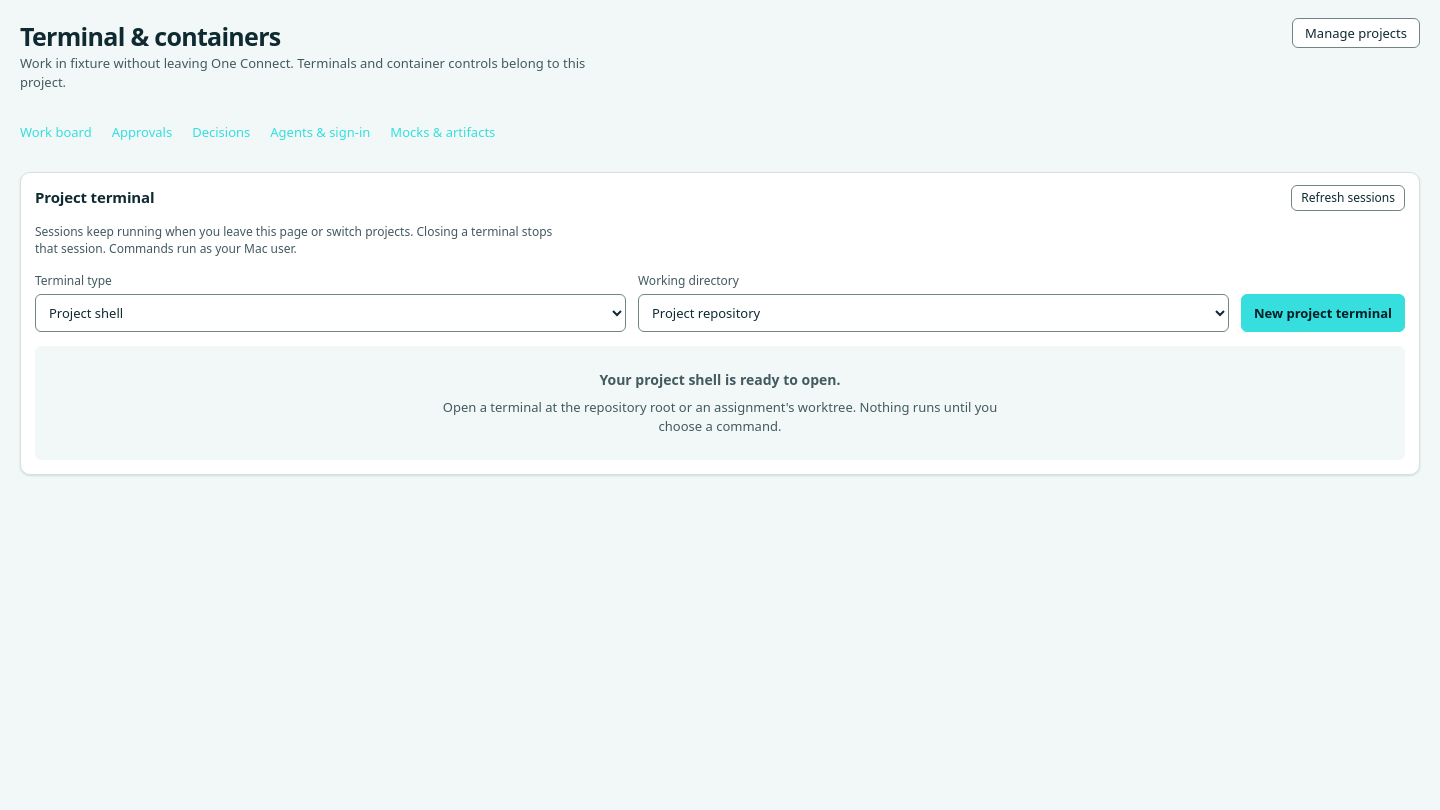
NativeTerminal transport › Workspace keeps the terminal mounted and retries a failed open
What coordinates should you click on to do the following:
click the button "New project terminal"
I would click on:
 (1323, 313)
Its box is [1241,294,1405,332].
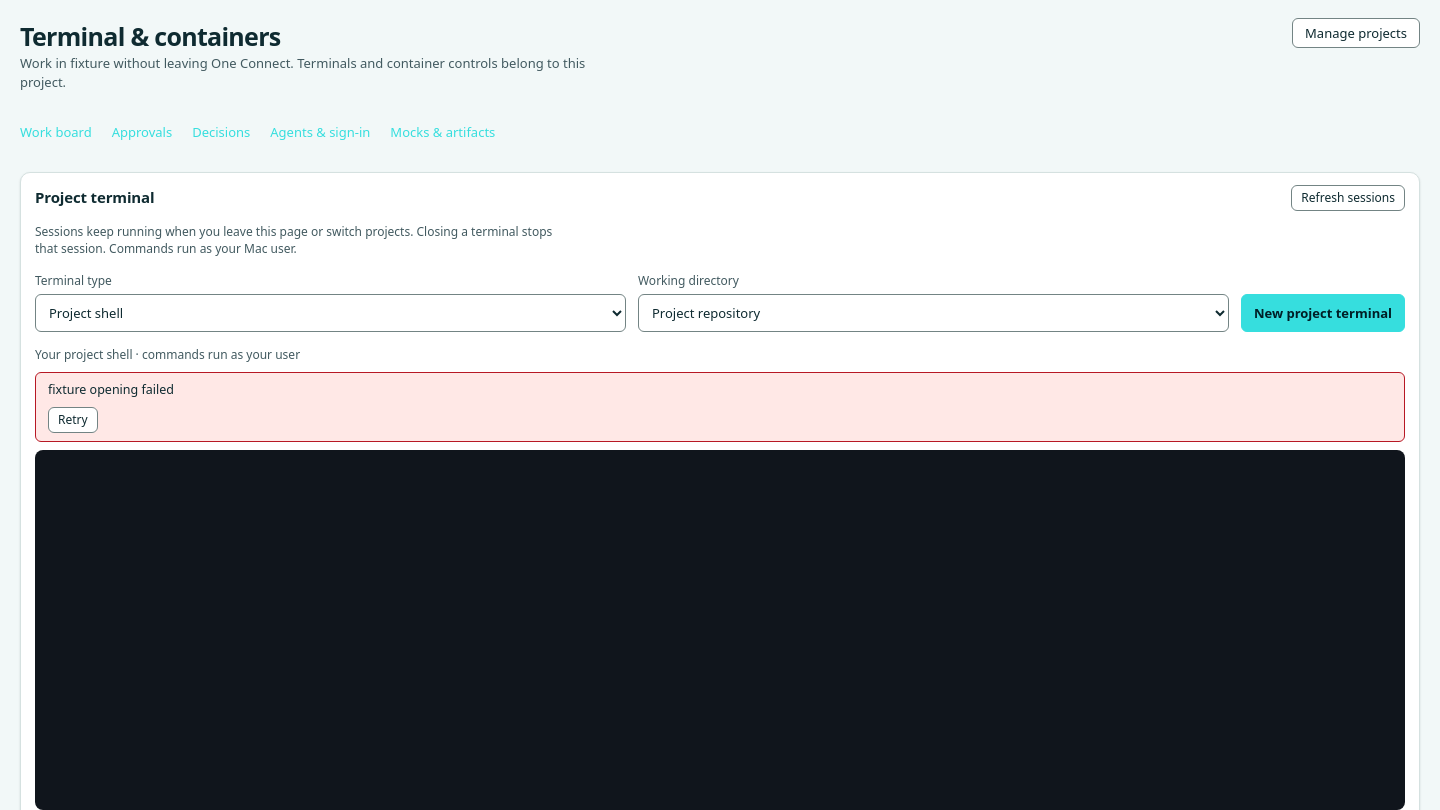
Now the text "fixture opening failed" is shown, box [48,380,174,398]
What coordinates should you click on to do the following:
click the button "Retry"
I would click on:
 (73, 420)
Its box is [48,407,98,433].
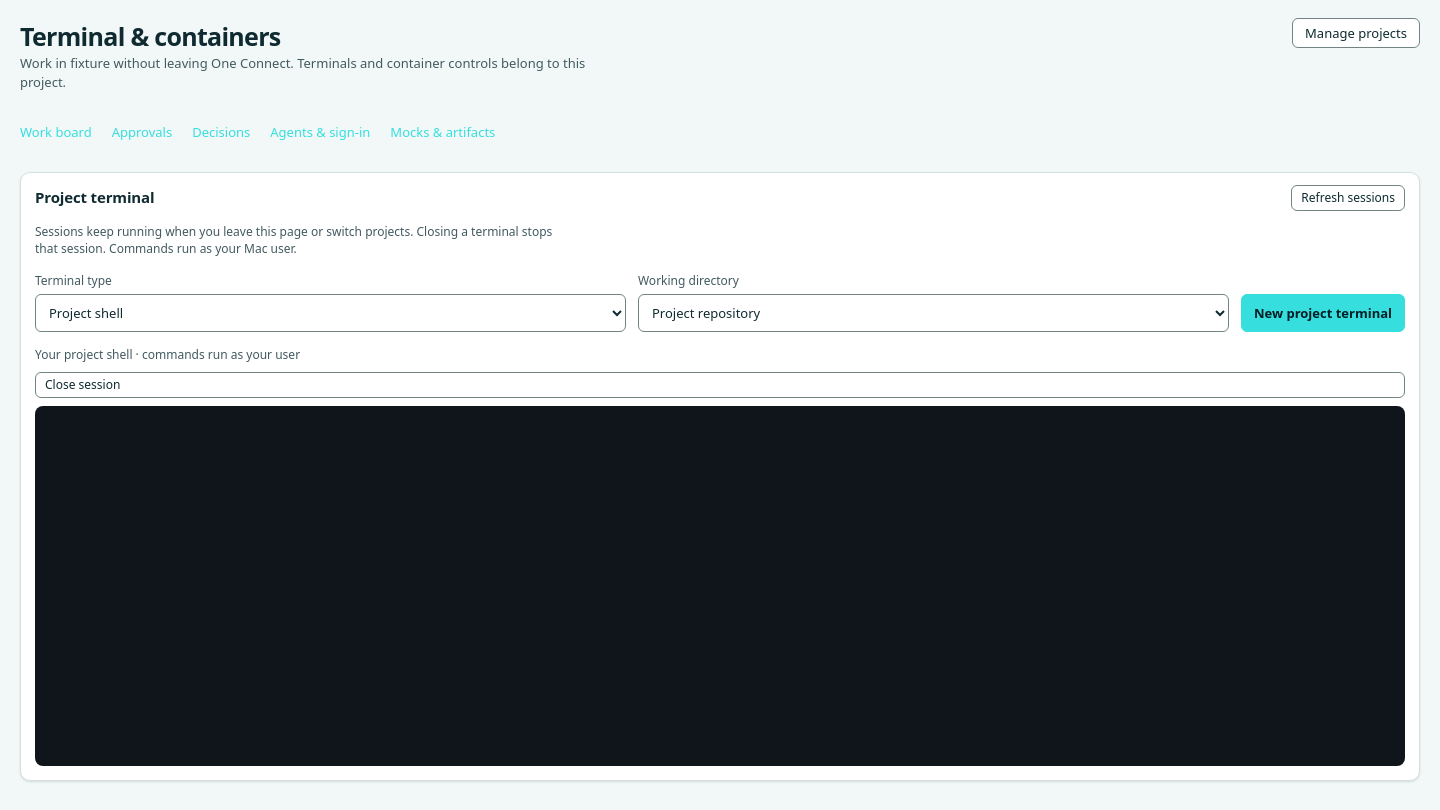
Now the text "fixture opening failed" is gone
